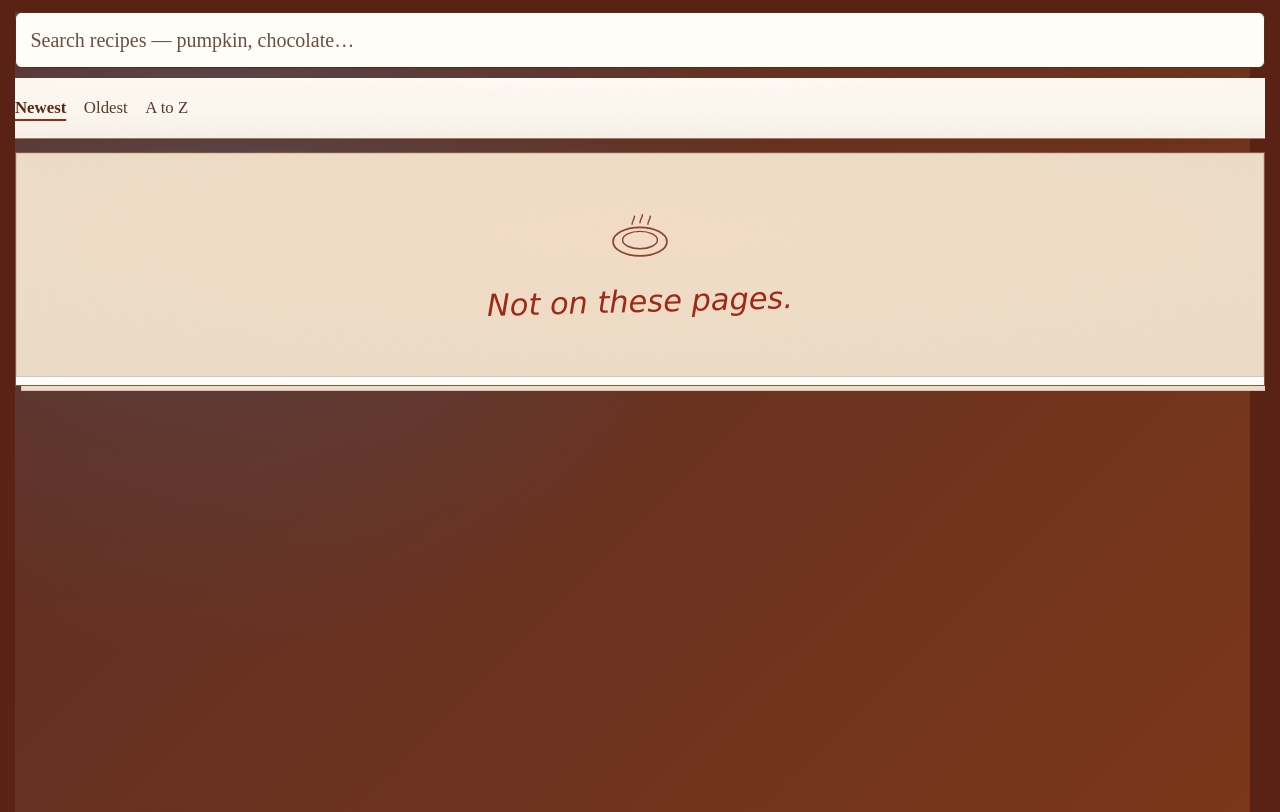
CookbookExplorer › shows clear button when typing in search, clears on click
Type "chocolate" into the field with placeholder "Search recipes — pumpkin, chocolate…". click: (640, 40)
box: [15,12,1265,68]
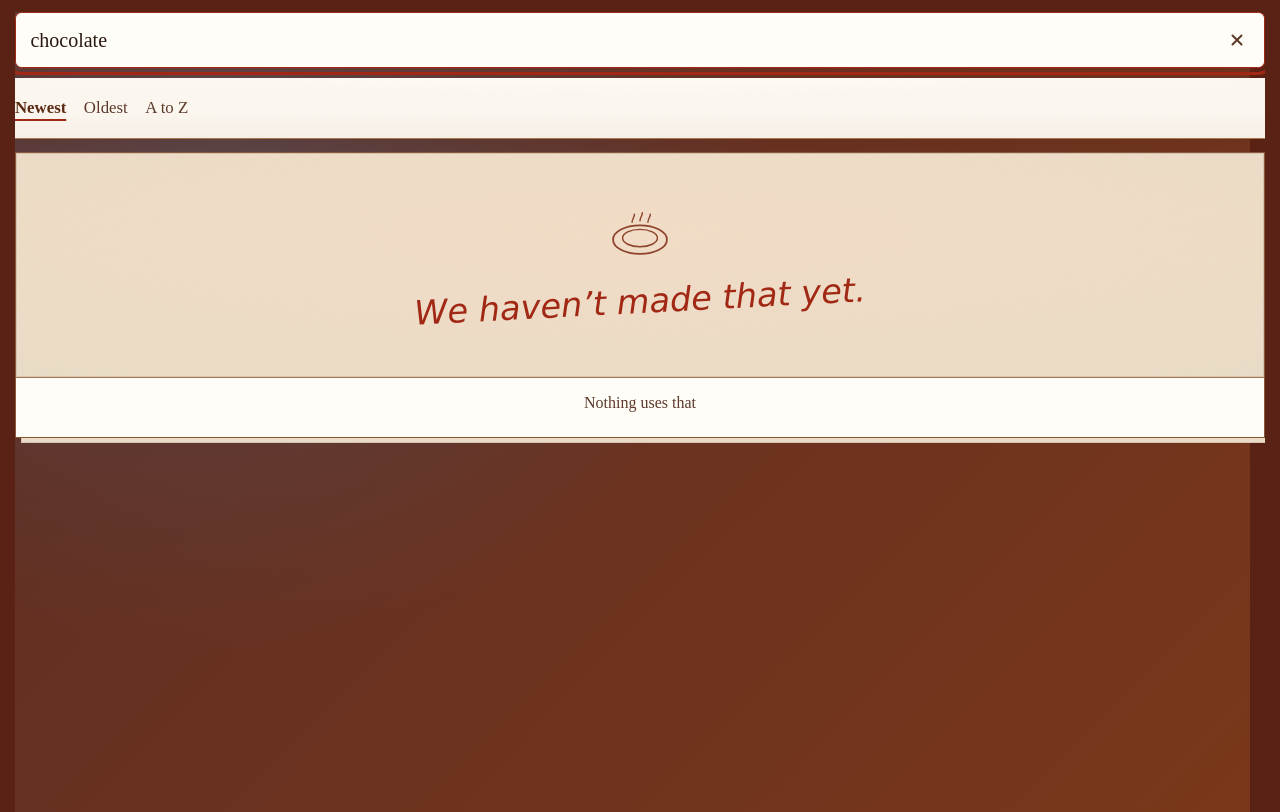
Expected: the button named "Clear search" is shown
Click the button named "Clear search". click: (1237, 40)
box: [1221,24,1253,56]
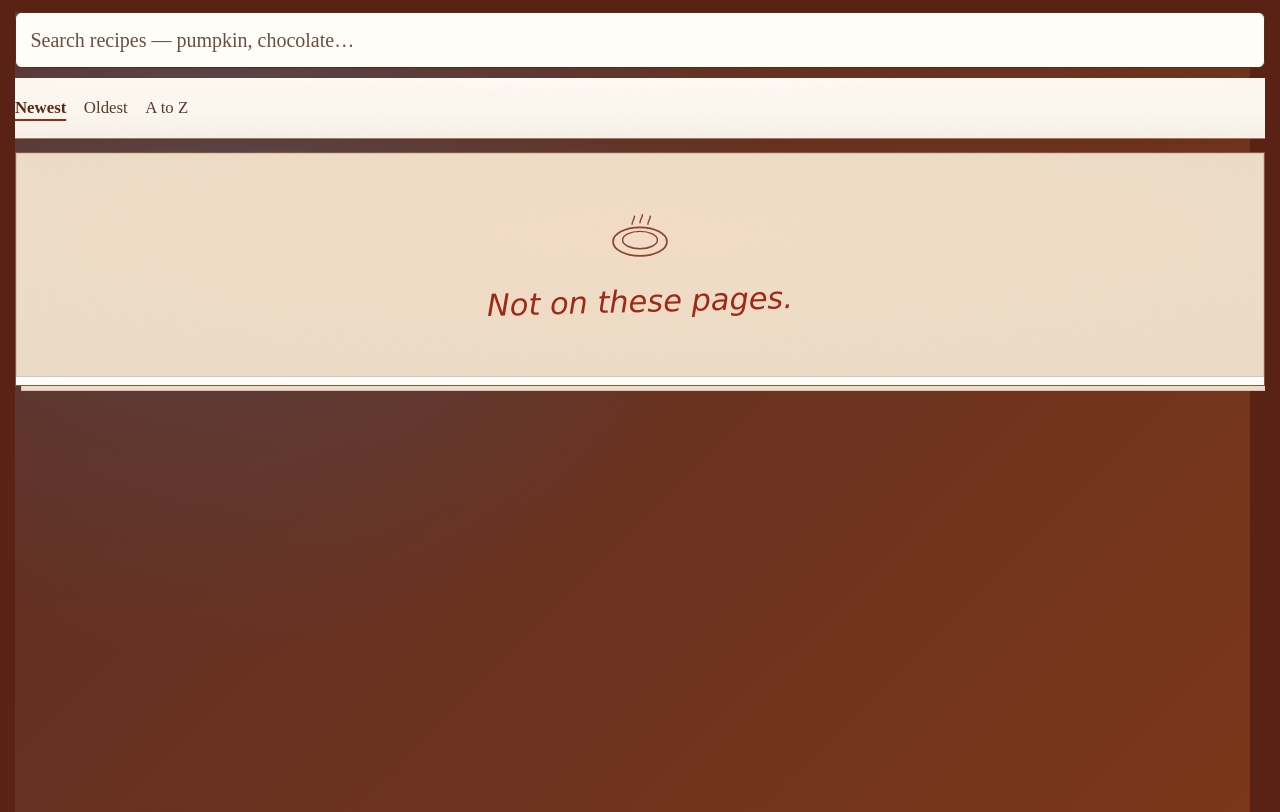
Expected: the field with placeholder "Search recipes — pumpkin, chocolate…" is empty, [15,12,1265,68]
